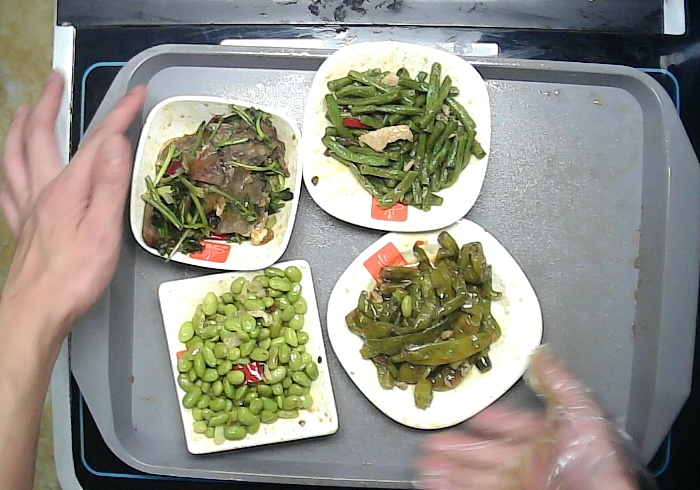SHKJ-Bai_Se_Cai_Die: (300, 40, 492, 233)
SHKJ-Bai_Se_Si_Fang_Cai_Die: (327, 218, 543, 429)
SHKJ-Bai_Se_Xiao_Fang_Die: (129, 94, 304, 272)
SHKJ-Si_Fang_Min: (158, 258, 340, 454)
